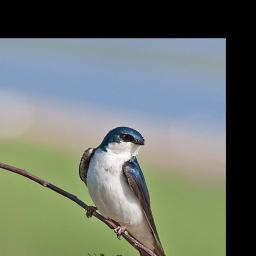Swallow: (65, 120, 192, 256)
